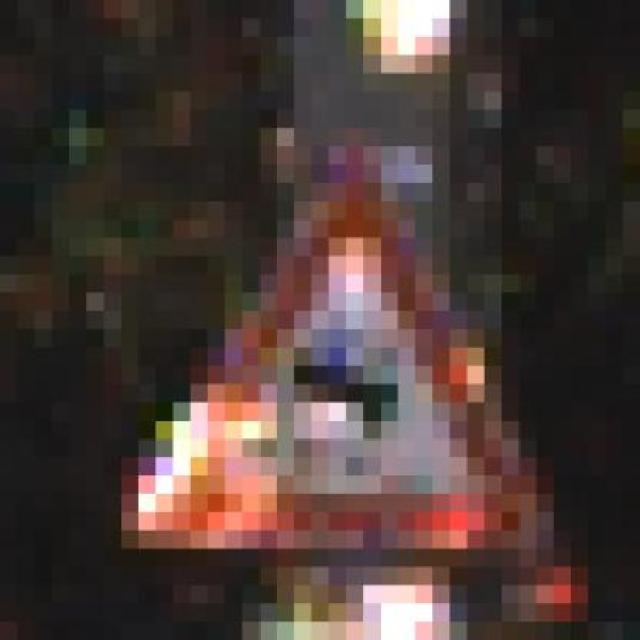Slippery Road Ahead: (86, 146, 571, 568)
